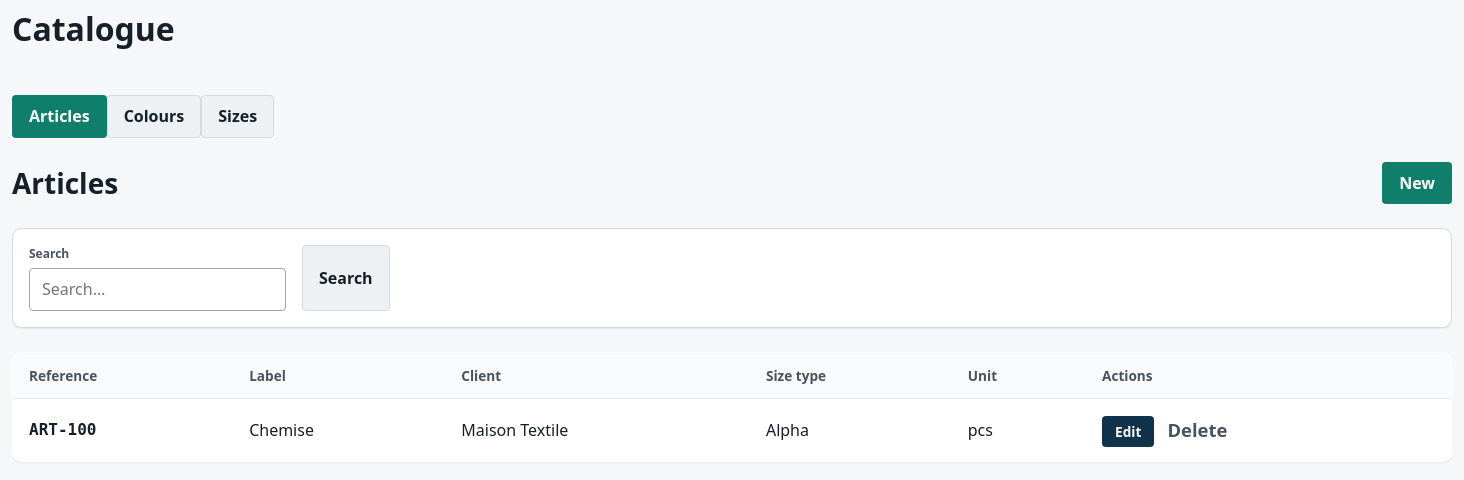
CataloguePage › shows colours and sizes on their tabs
This screenshot has width=1464, height=480.
Check: the text "ART-100" is shown, box [29,420,96,439]
Click the button "Colours" at (154,116), box [107,95,201,138]
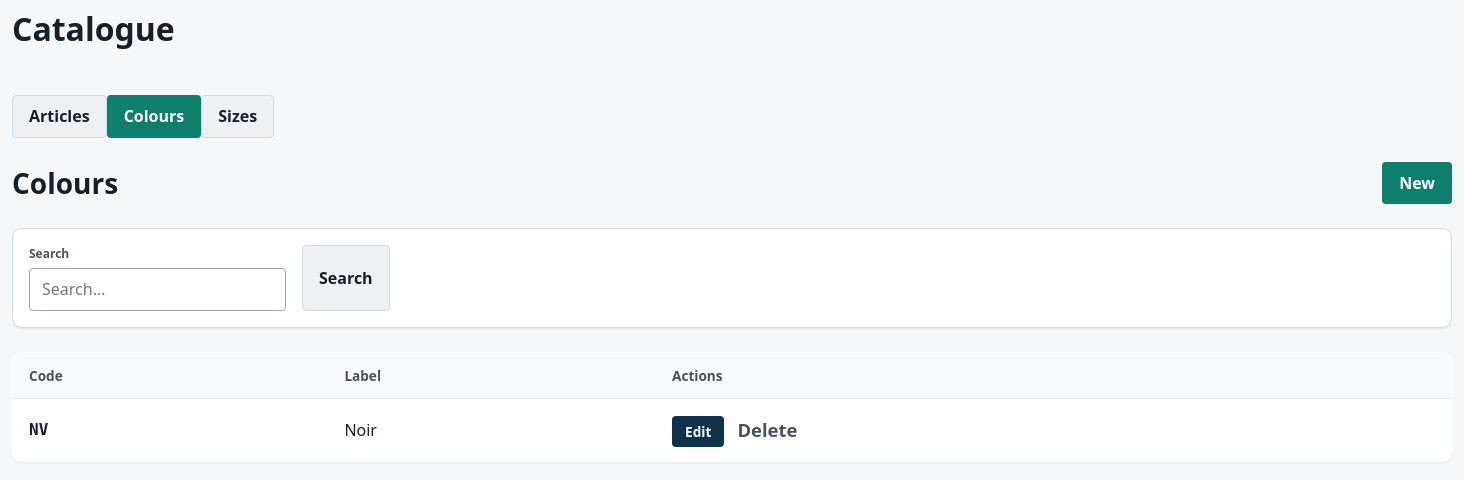
Check: the text "NV" is shown, box [29,420,48,439]
Click the button "Sizes" at (238,116), box [201,95,274,138]
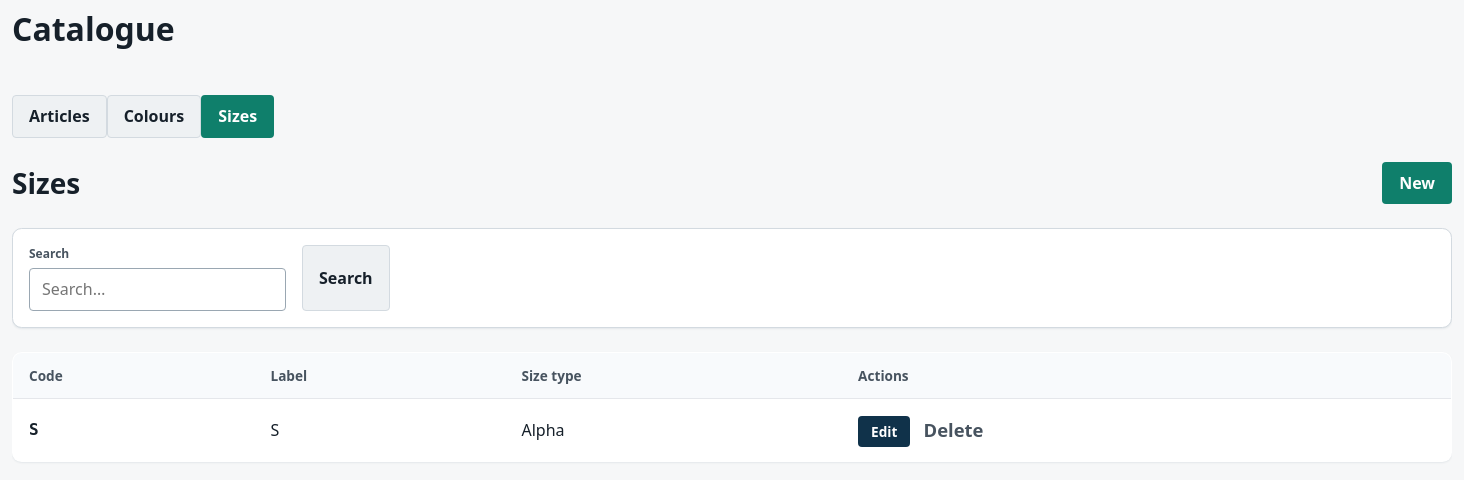
Check: the text "Alpha" is shown, box [506,399,842,462]
